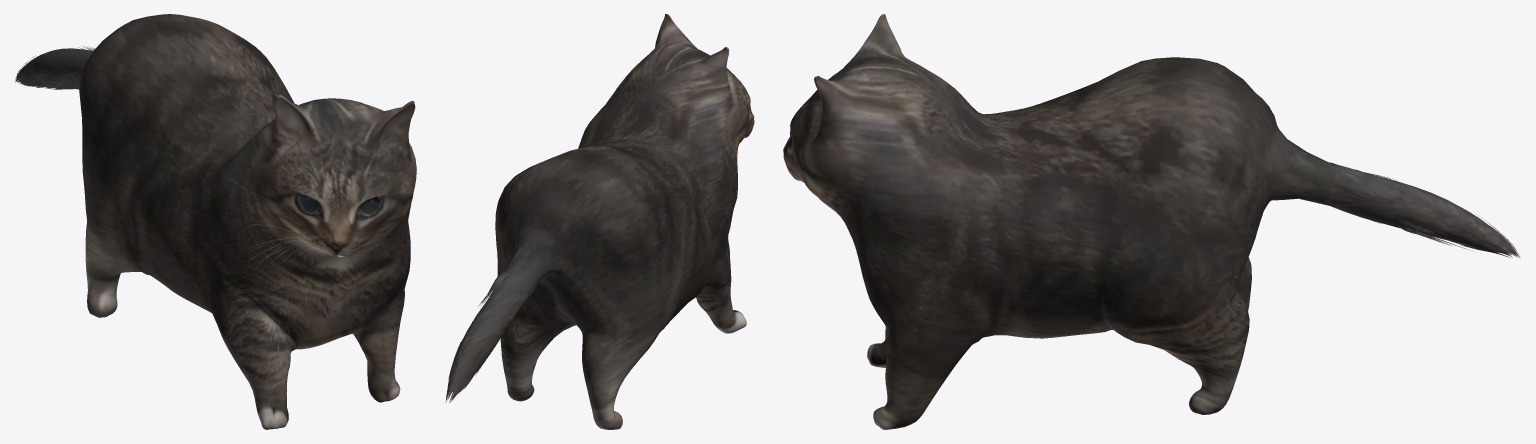
The model's file is siro.glb.
3 views of the same model, side by side, from view 1: azimuth 30°, elevation 25°; view 2: azimuth 150°, elevation 25°; view 3: azimuth 270°, elevation 25° (orthographic). The views are drawn at different scales.
Parts seen in each view (by area): view 1: Muchkin1.002; view 2: Muchkin1.002; view 3: Muchkin1.002.
Boxes of the visible parts, x1,y1,x2,y2 form: Muchkin1.002: (15, 14, 416, 429); Muchkin1.002: (445, 14, 754, 429); Muchkin1.002: (783, 14, 1519, 429).
Bounding box in the file's own units: 0.2392 × 0.3866 × 0.7242.
Materials: 1 (1 with a texture image).
